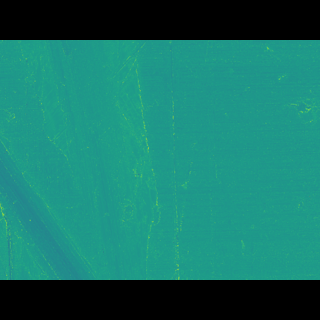Loch: (0, 70, 163, 250), (275, 107, 319, 137)
